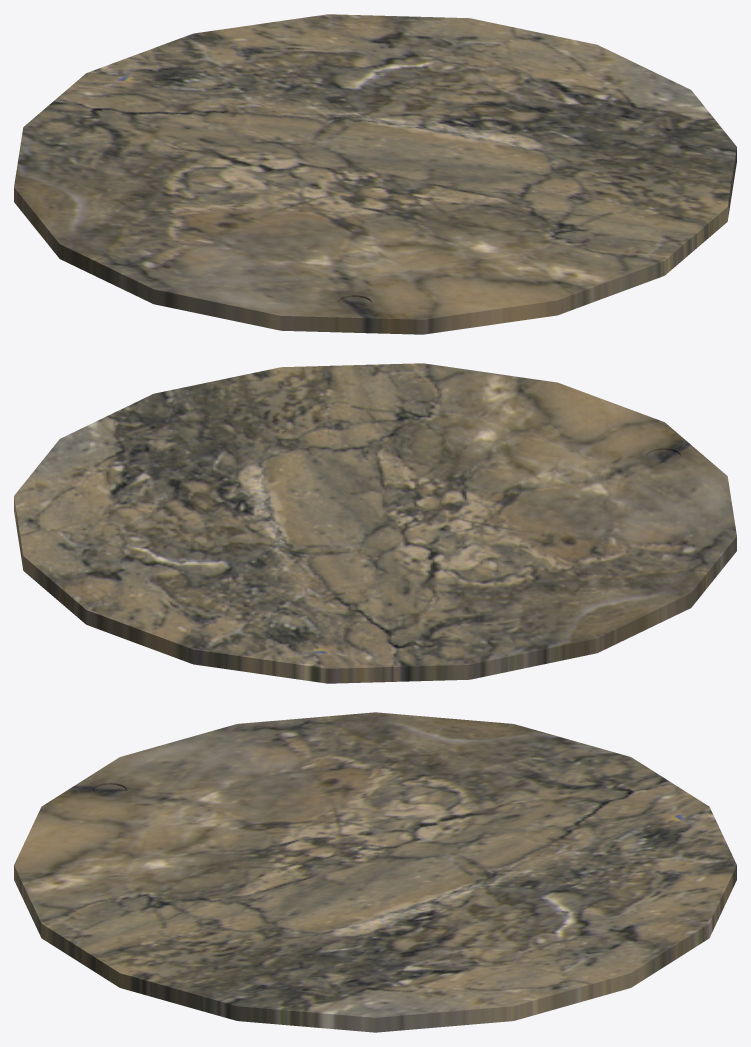
Rendered from circulo_piedra4.FBX.
The picture shows the model from 3 angles, top to bottom: view 1: azimuth 30°, elevation 25°; view 2: azimuth 150°, elevation 25°; view 3: azimuth 270°, elevation 25°; orthographic projection.
Parts seen in each view (by area): view 1: circulo_piedra003; view 2: circulo_piedra003; view 3: circulo_piedra003.
Part boxes in pixels (x1,y1,x2,y2): circulo_piedra003: (14, 14, 736, 334); circulo_piedra003: (14, 363, 736, 683); circulo_piedra003: (14, 712, 736, 1032).
Size of the model in its own units: 84.6 by 1.91 by 84.6.
